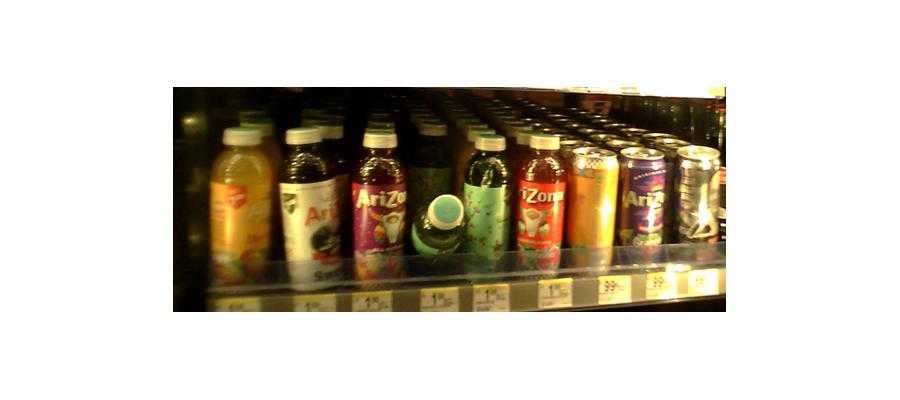bottle: (280, 126, 345, 293), (211, 125, 274, 289), (352, 123, 405, 282), (514, 129, 564, 275), (567, 138, 618, 271), (461, 131, 508, 273), (618, 141, 668, 266), (674, 138, 722, 254), (411, 182, 465, 272)
